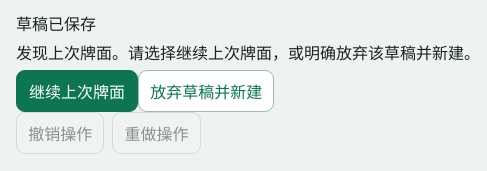
Scenario: Batch 21 persistence UI › requires an explicit startup choice and clears session history when starting new
This screenshot has width=487, height=171.
Expected: the button "撤销操作" is disabled, x1=16 y1=112 x2=104 y2=154
Expected: the button "继续上次牌面" is shown, x1=16 y1=70 x2=138 y2=112
Click the button "放弃草稿并新建" at (206, 91), box x1=138 y1=70 x2=274 y2=112
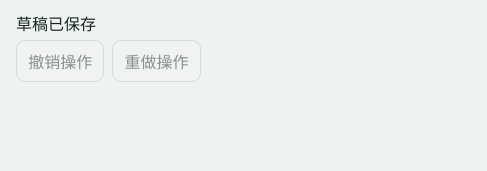
Expected: the text "继续上次牌面" is gone
